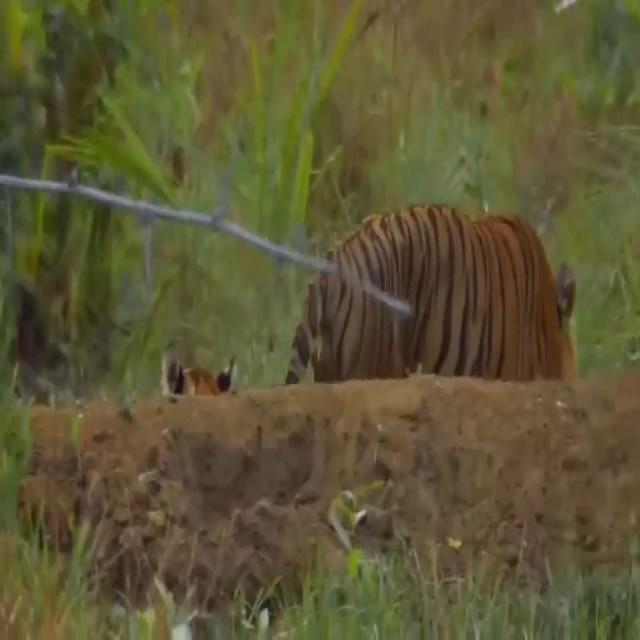tiger: (285, 199, 578, 382)
